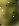without_mask: (1, 1, 19, 26)
